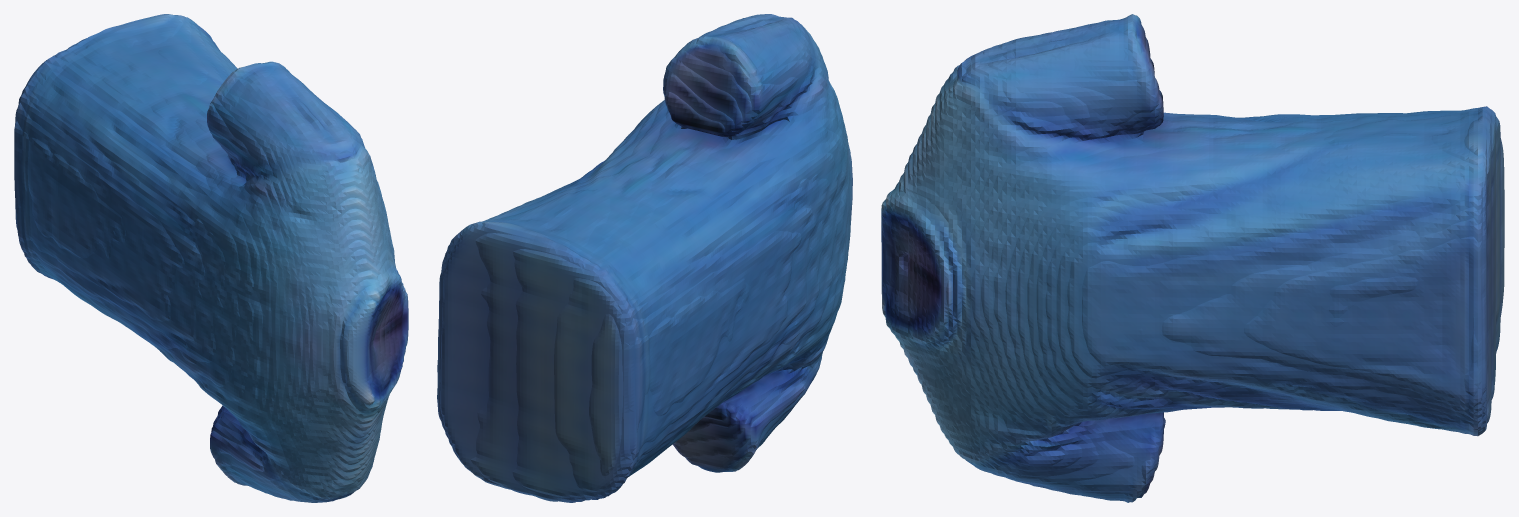
The model's file is RAR-3D-001-tshirt-original.glb.
3 renders of one model, left to right at view 1: azimuth 30°, elevation 25°; view 2: azimuth 150°, elevation 25°; view 3: azimuth 270°, elevation 25°, orthographic. The views are drawn at different scales.
Visible parts, largest first — view 1: RAR-3D-001-tshirt-original.obj; view 2: RAR-3D-001-tshirt-original.obj; view 3: RAR-3D-001-tshirt-original.obj.
Part boxes in pixels (x1=…): RAR-3D-001-tshirt-original.obj: x1=14, y1=14, x2=408, y2=502; RAR-3D-001-tshirt-original.obj: x1=437, y1=14, x2=852, y2=502; RAR-3D-001-tshirt-original.obj: x1=881, y1=14, x2=1504, y2=502.
Bounding box in the file's own units: 0.3988 × 0.7916 × 0.9477.
